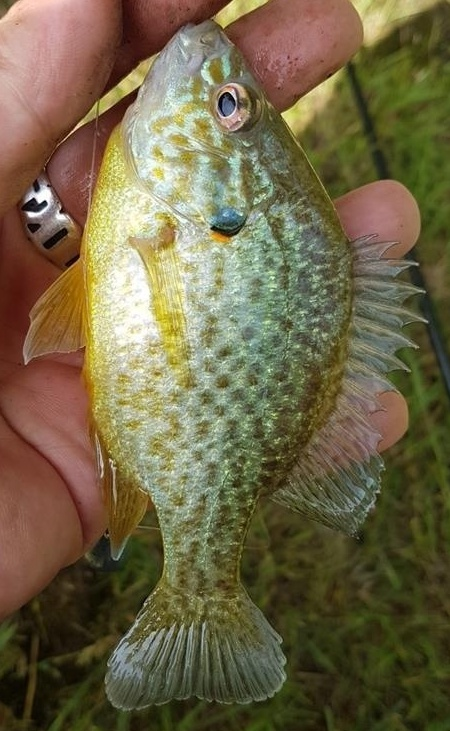Lepomis gibbosus: (20, 20, 430, 711)
